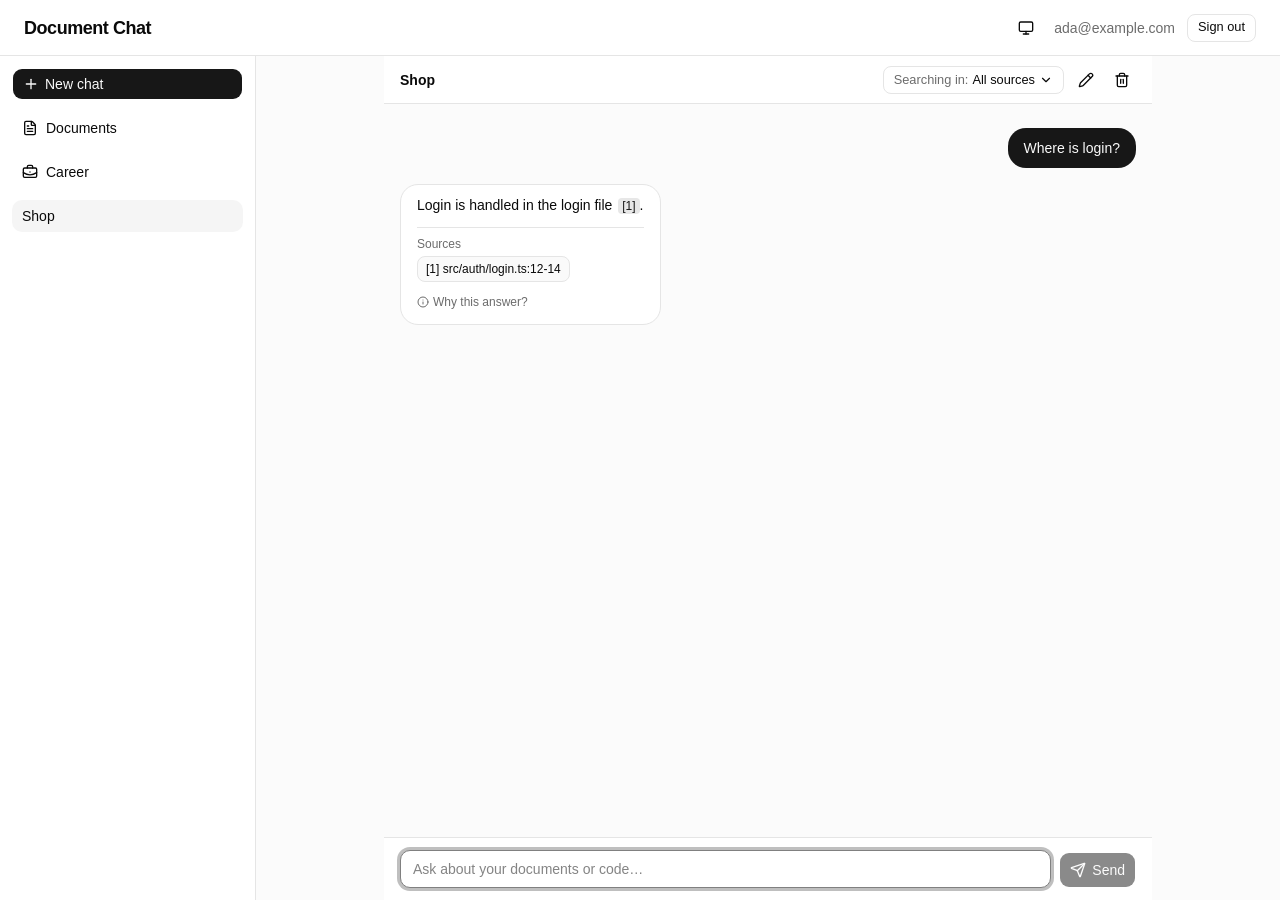
Scenario: a source that is a piece of code › in the answer › says which repository the lines are from when the citation is hovered
This screenshot has width=1280, height=900.
Hover over the button named "Source 1": (629, 206) left=618, top=198, right=640, bottom=214
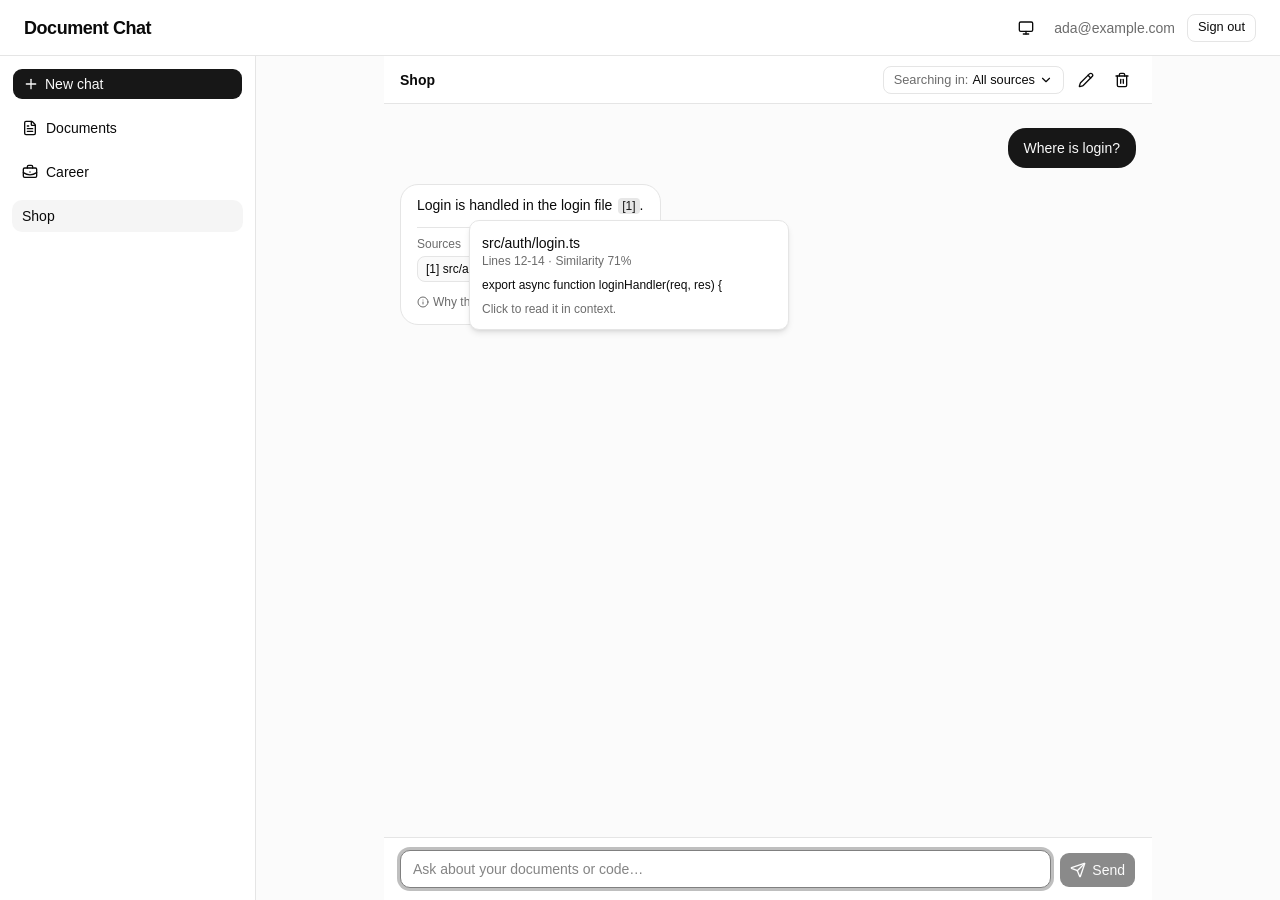
Check: the text "Lines 12-14 · Similarity 71%" is shown, box left=482, top=254, right=631, bottom=268
